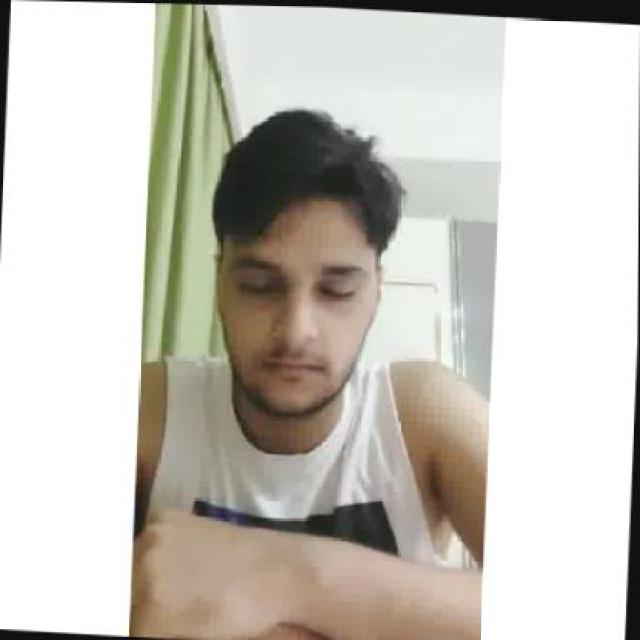inattentif: (204, 104, 384, 428)
